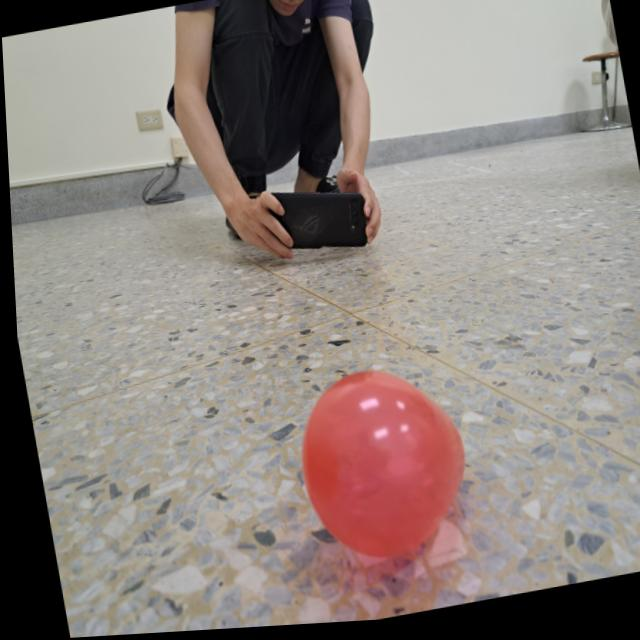red: (281, 359, 477, 582)
